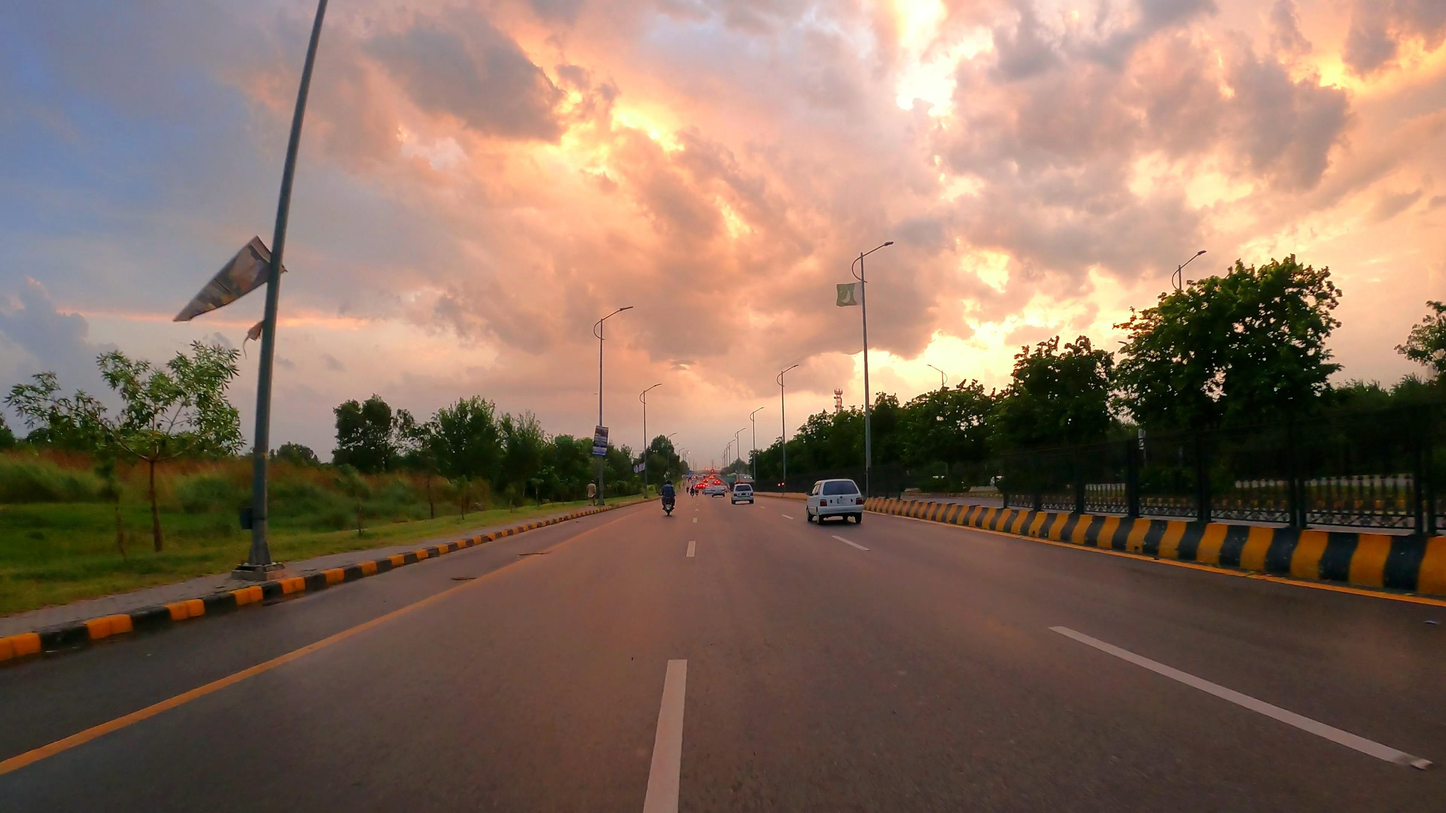dry: (0, 490, 1446, 813)
